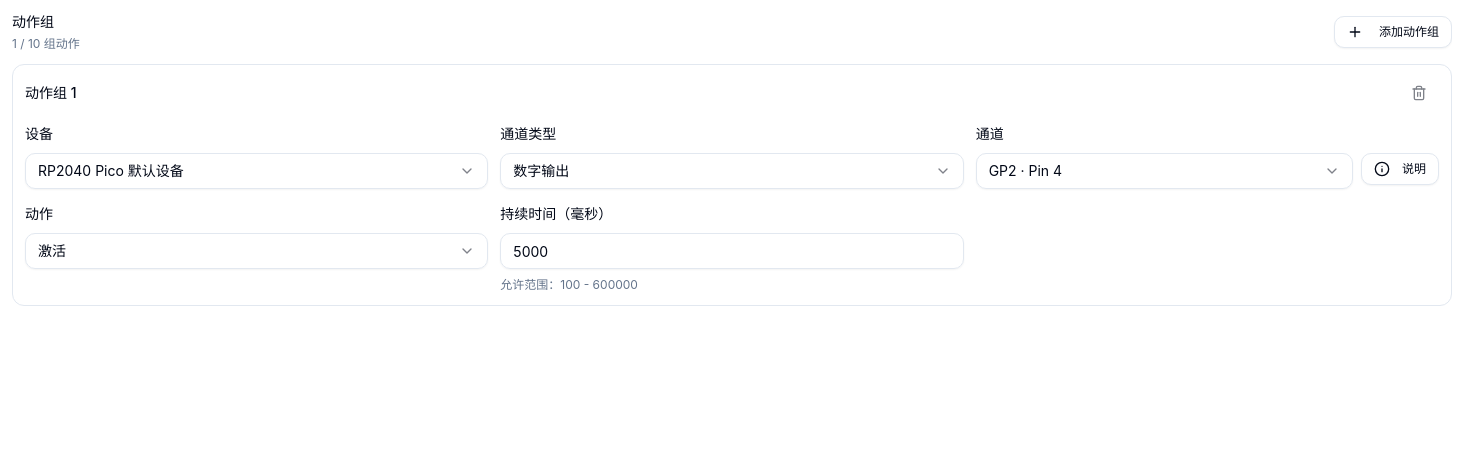
Scenario: DeviceChannelOutputFields › hides ambiguous clear action for digital output channels
This screenshot has width=1464, height=464.
Step 1. Click the dropdown named "动作" → x=52, y=250, box top-left (25, 233), bottom-right (488, 269)
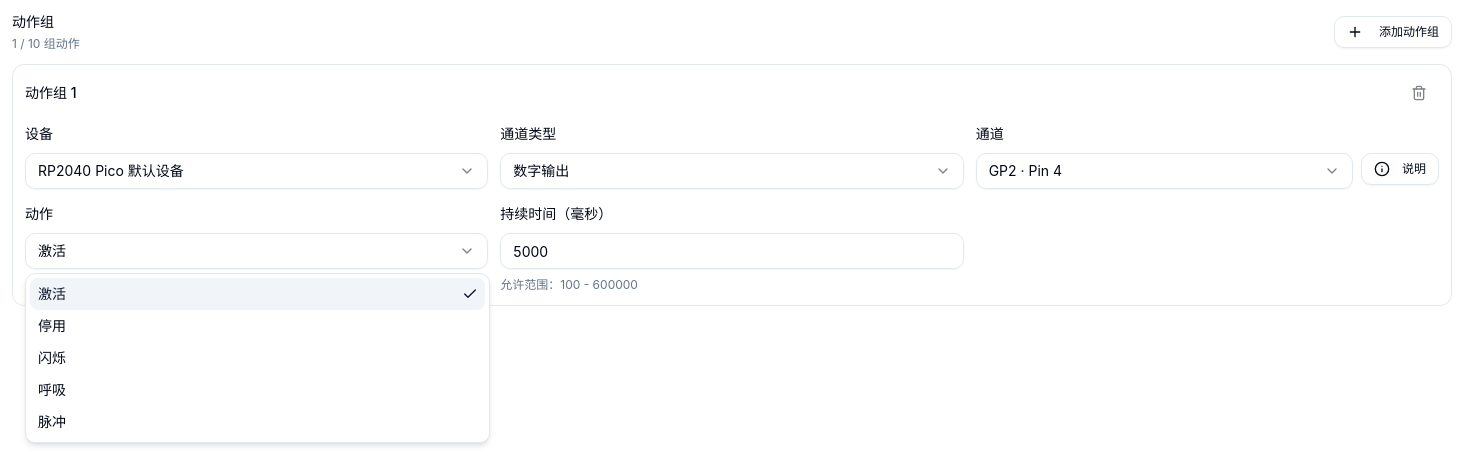
Now the option "激活" is shown, box top-left (30, 278), bottom-right (485, 310)
Now the option "停用" is shown, box top-left (38, 317), bottom-right (66, 334)
